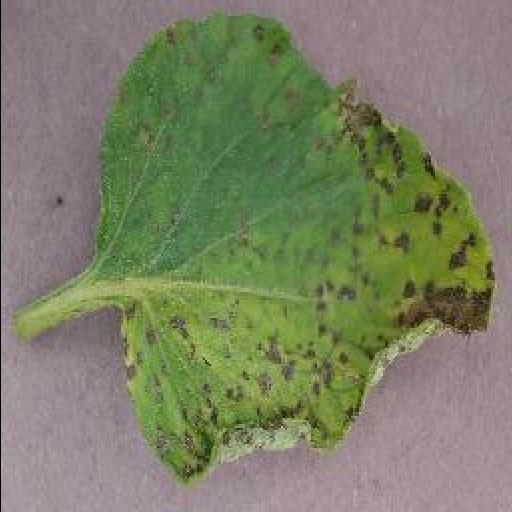disease_tomato: (96, 18, 498, 483)
